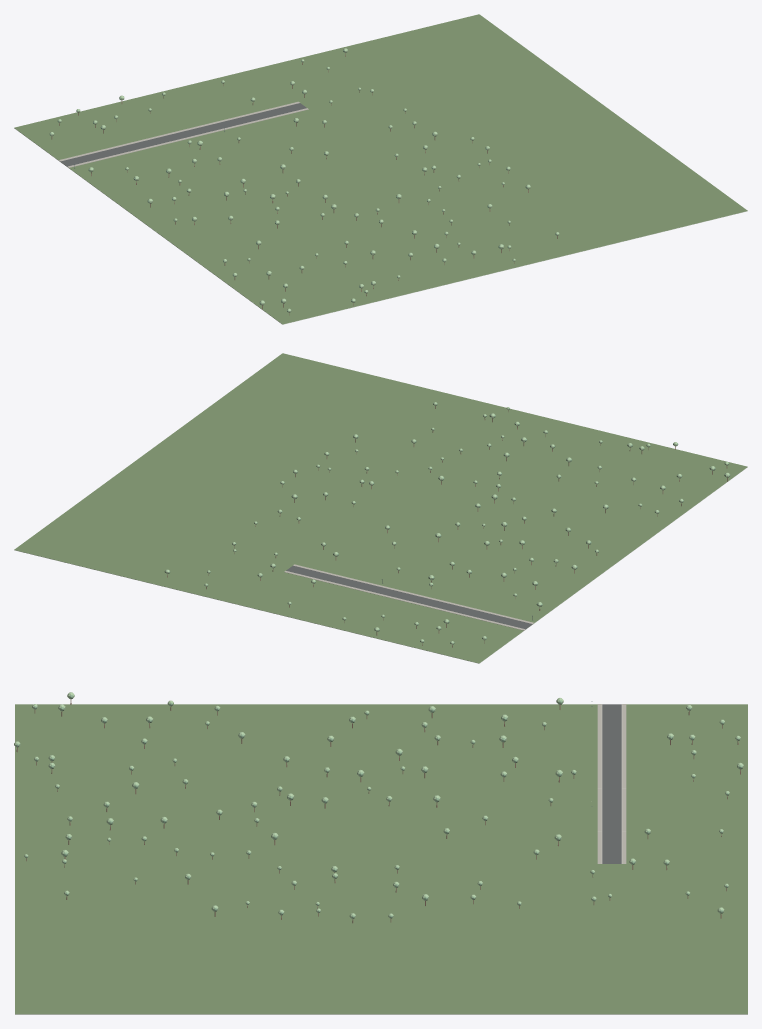
Rendered from chunk_7_4_high.glb.
The picture shows the model from 3 angles, top to bottom: view 1: azimuth 30°, elevation 25°; view 2: azimuth 150°, elevation 25°; view 3: azimuth 270°, elevation 25°; orthographic projection. The views are drawn at different scales.
Parts seen in each view (by area): view 1: city_forest_floor, city_world_asphalt, city_foliage, city_world_sidewalk, city_grass, city_foliage_dark; view 2: city_forest_floor, city_world_asphalt, city_foliage, city_world_sidewalk, city_grass, city_foliage_dark; view 3: city_forest_floor, city_world_asphalt, city_foliage, city_world_sidewalk, city_foliage_dark, city_bark, city_grass, city_curb.
Boxes of the visible parts, x1,y1,x2,y2 form: city_forest_floor: (14, 14, 747, 324); city_world_asphalt: (60, 103, 306, 166); city_foliage: (49, 48, 559, 312); city_world_sidewalk: (58, 101, 308, 167); city_grass: (14, 128, 747, 324); city_foliage_dark: (49, 49, 556, 311); city_forest_floor: (14, 353, 747, 663); city_world_asphalt: (286, 566, 532, 629); city_foliage: (165, 402, 729, 644); city_world_sidewalk: (284, 564, 533, 630); city_grass: (14, 467, 747, 663); city_foliage_dark: (164, 403, 730, 644); city_forest_floor: (15, 704, 747, 1014); city_world_asphalt: (602, 704, 621, 863); city_foliage: (14, 692, 743, 918); city_world_sidewalk: (597, 704, 626, 863); city_foliage_dark: (15, 695, 742, 918); city_bark: (16, 699, 740, 923); city_grass: (15, 1014, 747, 1014); city_curb: (598, 704, 625, 863).
Size of the model in its own units: 515 by 9.8 by 513.
